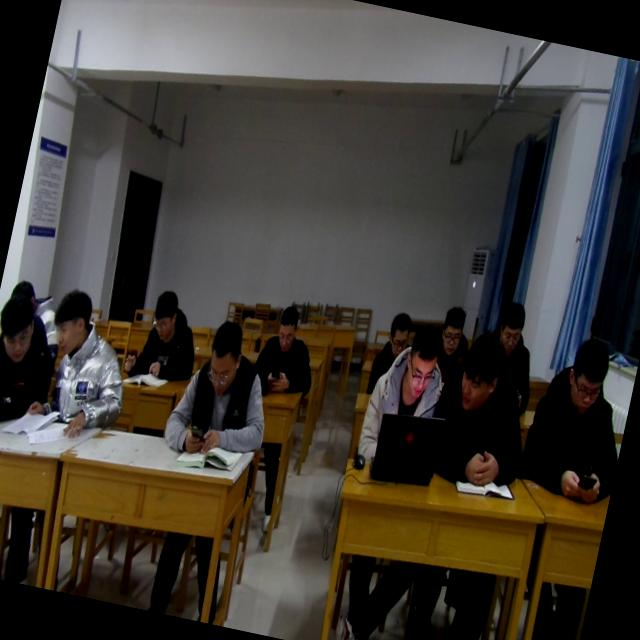down: (194, 314, 251, 406), (558, 334, 616, 422), (396, 320, 448, 404), (0, 281, 43, 366), (142, 282, 189, 350), (432, 298, 472, 357), (490, 298, 529, 358), (267, 298, 306, 354), (381, 306, 418, 360)
sit: (513, 325, 640, 507), (415, 326, 545, 498), (159, 310, 286, 468), (22, 282, 144, 443), (352, 312, 457, 480), (0, 276, 67, 431), (119, 278, 208, 394), (474, 296, 552, 416), (252, 294, 330, 400), (362, 304, 417, 404), (424, 298, 479, 384)
